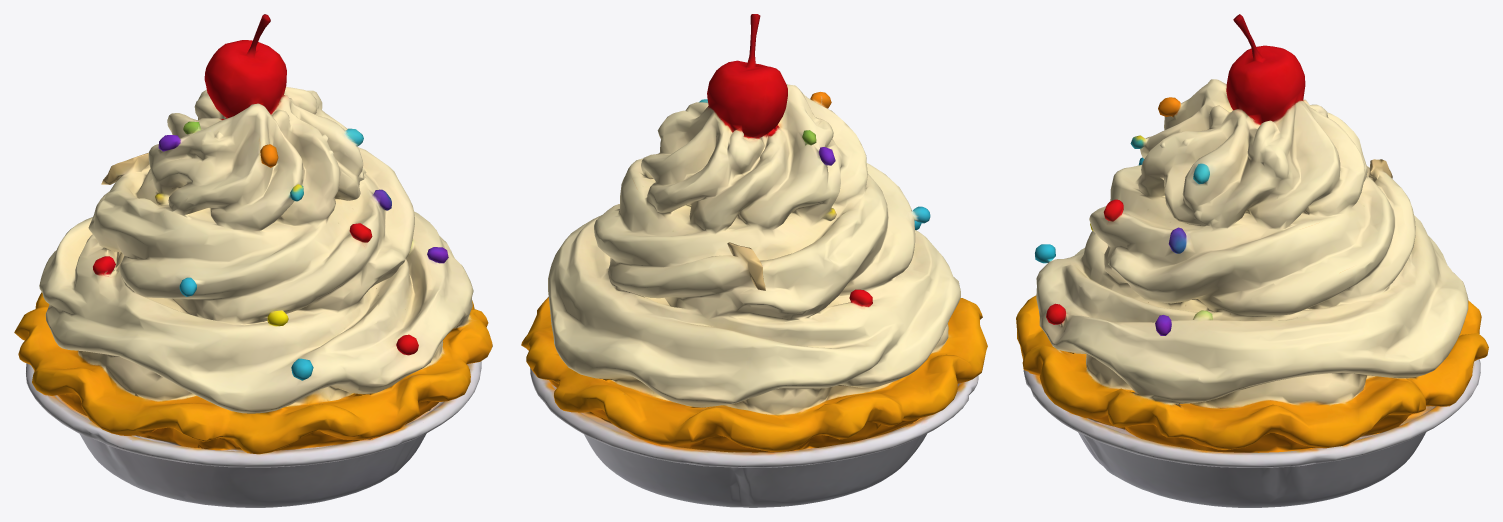
File: cream-pie.glb
The picture shows the model from 3 angles, left to right: view 1: azimuth 30°, elevation 25°; view 2: azimuth 150°, elevation 25°; view 3: azimuth 270°, elevation 25°; orthographic projection.
Parts seen in each view (by area): view 1: tripo_node_142e0b15-9d4e-46a2-a615-c124bfb2c83c; view 2: tripo_node_142e0b15-9d4e-46a2-a615-c124bfb2c83c; view 3: tripo_node_142e0b15-9d4e-46a2-a615-c124bfb2c83c.
Part boxes in pixels (x1,y1,x2,y2): tripo_node_142e0b15-9d4e-46a2-a615-c124bfb2c83c: (14,14,492,507); tripo_node_142e0b15-9d4e-46a2-a615-c124bfb2c83c: (521,14,987,507); tripo_node_142e0b15-9d4e-46a2-a615-c124bfb2c83c: (1016,14,1488,507).
Bounding box in the file's own units: 1 × 0.993 × 0.9912.
Materials: 1 (1 with a texture image).
